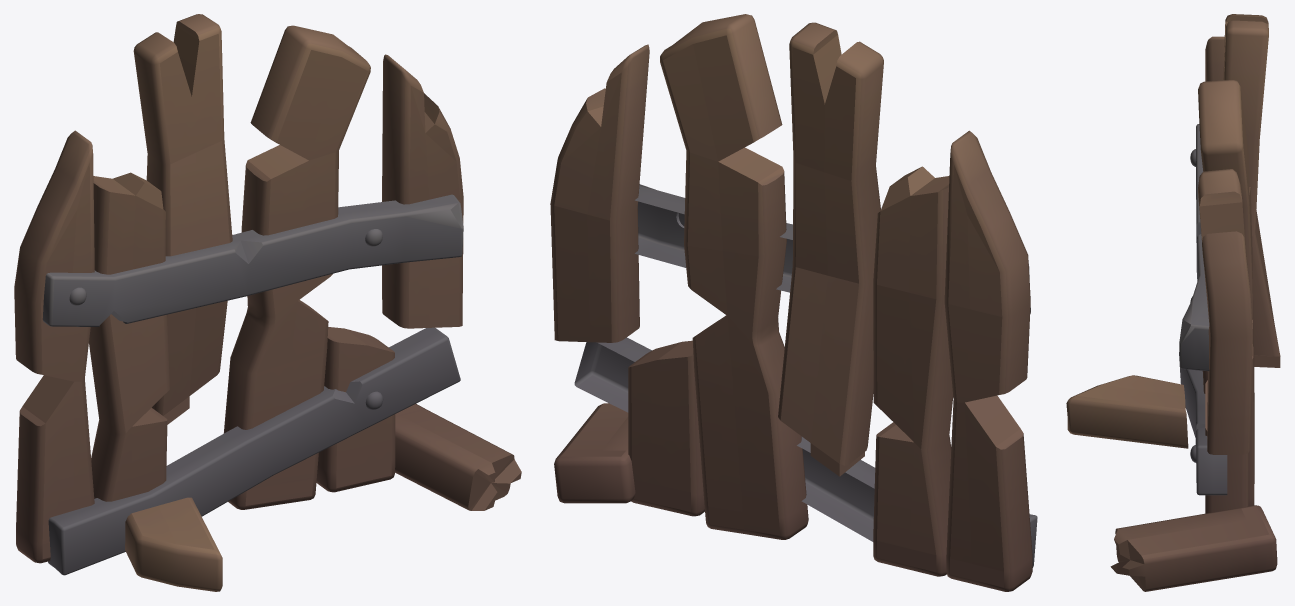
File: gateDoor_4.fbx
The picture shows the model from 3 angles, left to right: view 1: azimuth 30°, elevation 25°; view 2: azimuth 150°, elevation 25°; view 3: azimuth 270°, elevation 25°; orthographic projection. The views are drawn at different scales.
Visible parts, largest first — view 1: gate_hurt4; view 2: gate_hurt4; view 3: gate_hurt4.
Boxes of the visible parts, x1,y1,x2,y2 form: gate_hurt4: (14,14,521,591); gate_hurt4: (550,14,1037,591); gate_hurt4: (1066,14,1280,591).
Size of the model in its own units: 180 by 191 by 81.33.
